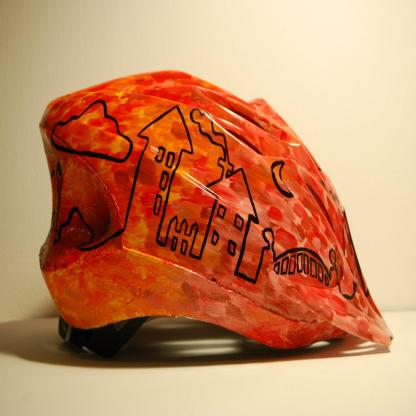Helmet: (49, 88, 369, 395)
